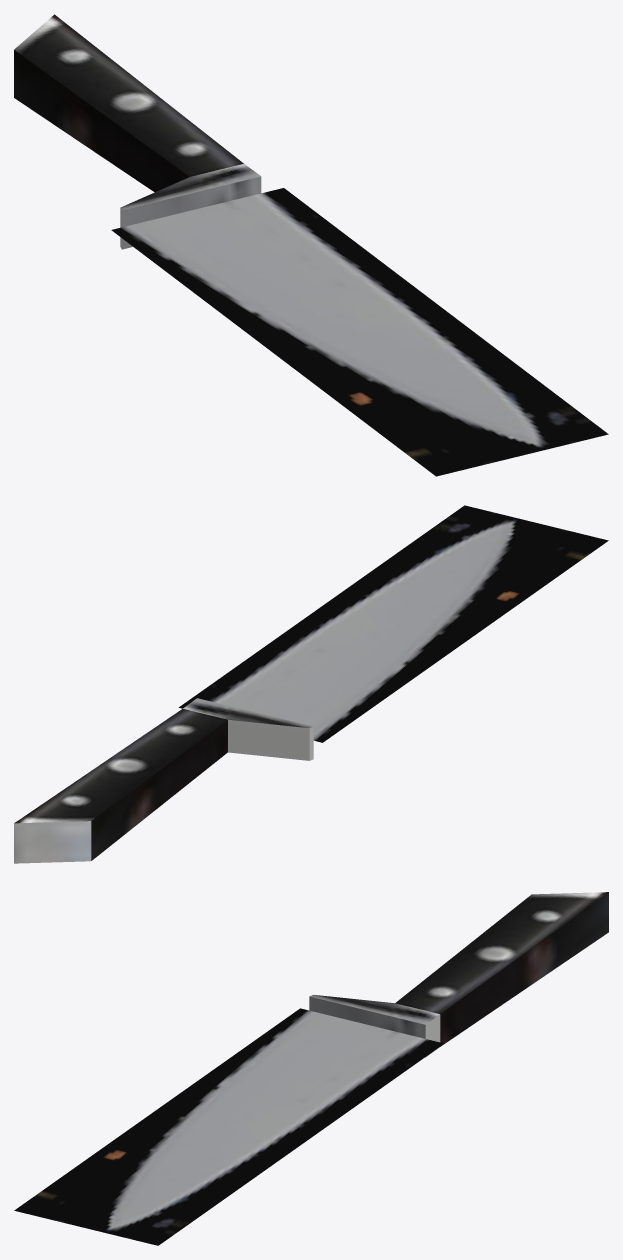
3 renders of one model, top to bottom at view 1: azimuth 30°, elevation 25°; view 2: azimuth 150°, elevation 25°; view 3: azimuth 330°, elevation 25°, orthographic. The views are drawn at different scales.
Visible parts, largest first — view 1: Knife_05001_Cutlery002_0; view 2: Knife_05001_Cutlery002_0; view 3: Knife_05001_Cutlery002_0.
Boxes of the visible parts, bbox=[...] form: Knife_05001_Cutlery002_0: bbox=[14, 14, 608, 476]; Knife_05001_Cutlery002_0: bbox=[14, 505, 608, 863]; Knife_05001_Cutlery002_0: bbox=[14, 892, 608, 1245].
Size of the model in its own units: 0.1181 by 0.03 by 0.6161.
Materials: 1 (1 with a texture image).
